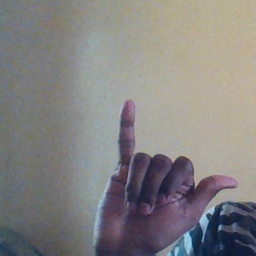J: (93, 98, 241, 255)
